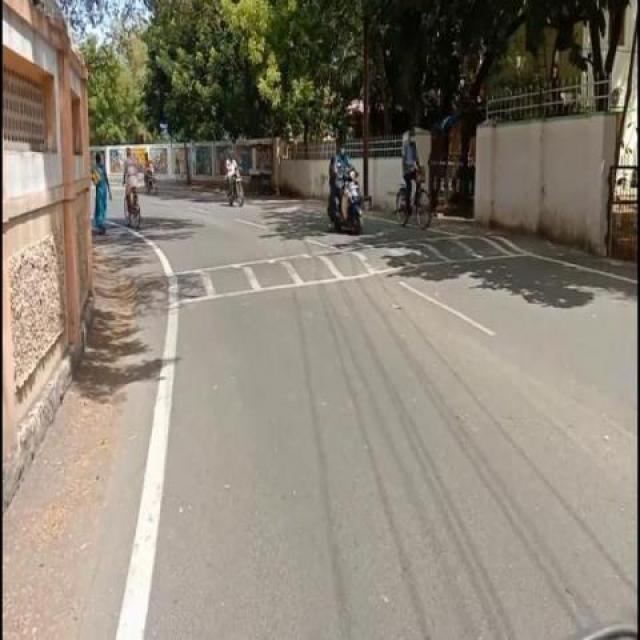Speed Bump: (139, 232, 538, 312)
